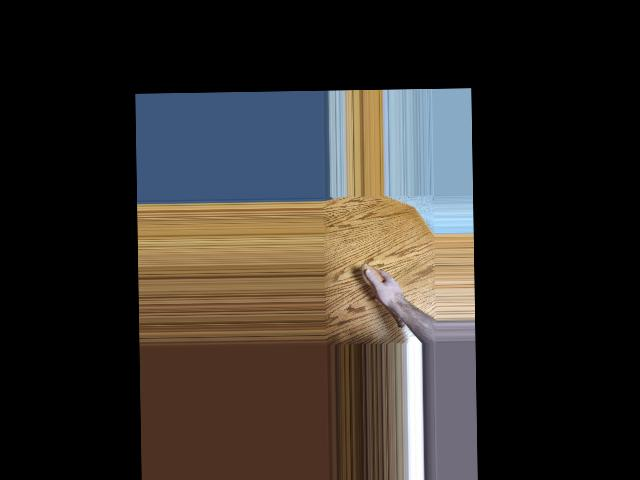sweet_potato: (361, 262, 406, 330)
